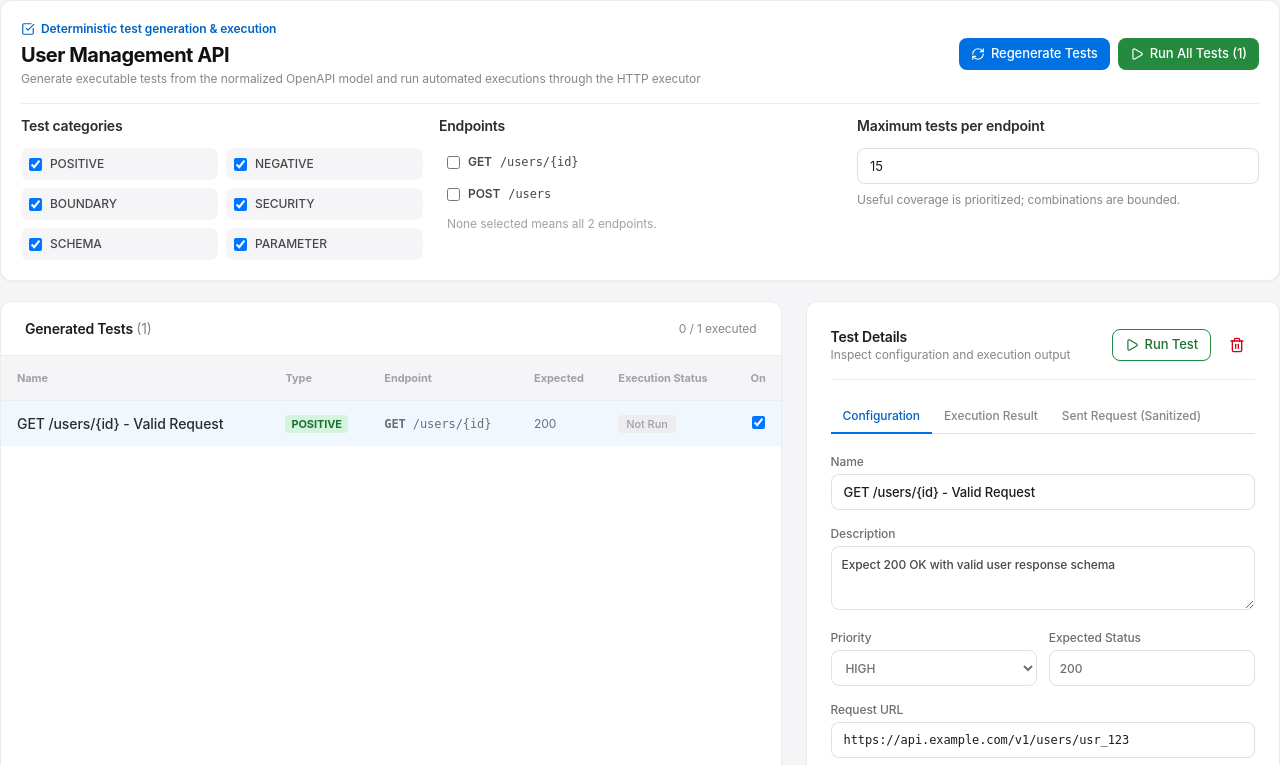
Test: TestGeneratorPage Component Tests › displays useful error when batch execution fails and allows retry
Click the button "Run All Tests (1)" at [1188, 54], box [1118, 38, 1259, 70]
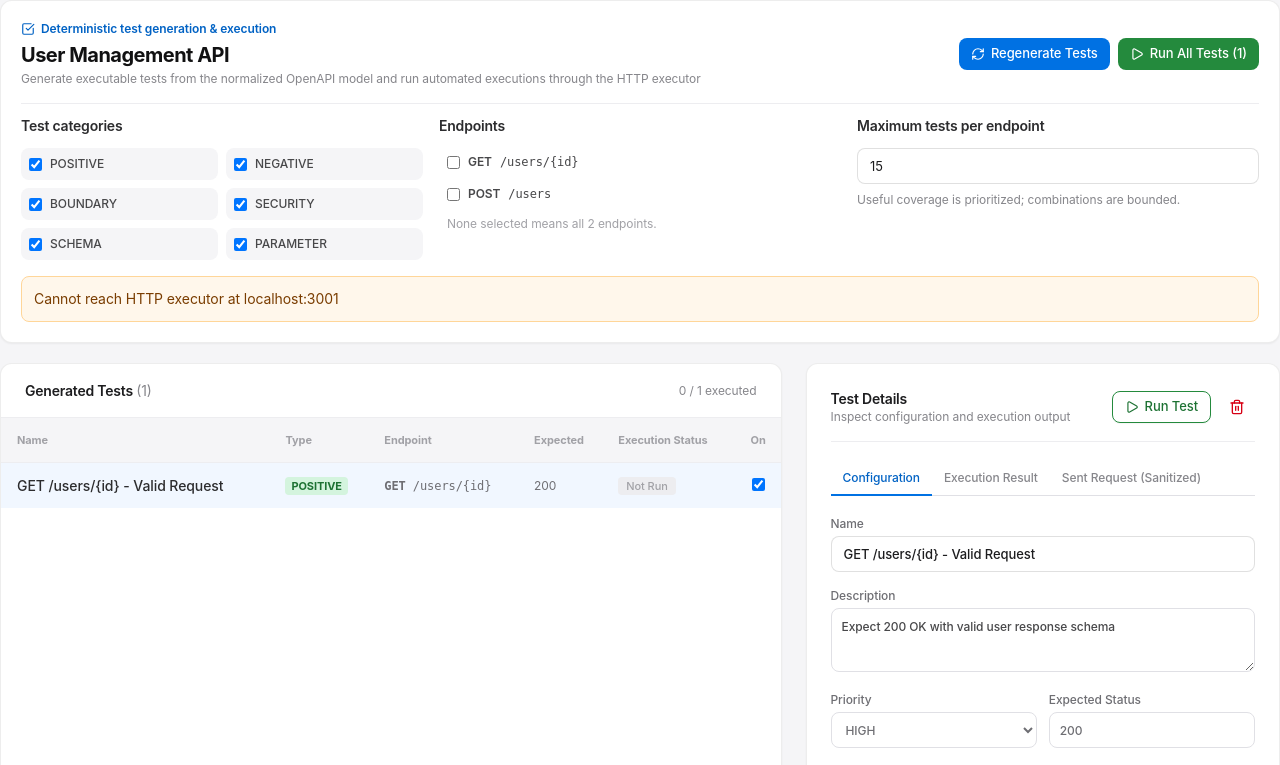
Expected: the text "Cannot reach HTTP executor at localhost:3001" is shown, [21, 276, 1259, 322]
